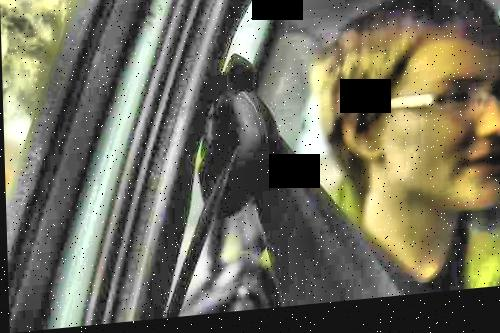seatbelt: (195, 94, 362, 303)
